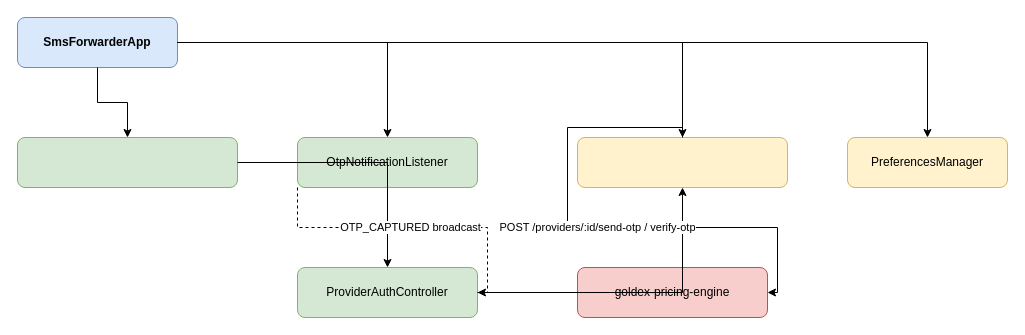
The diagram is 1025 pixels wide and 335 high, and some of its shapes have lost their labels. Here are the shapes that lost their labels. From the top down, the centre of each, then its label:
At point (127, 162): "MainActivity + ProviderListAdapter".
At point (682, 162): "RetrofitClient + PricingEngineApi".
